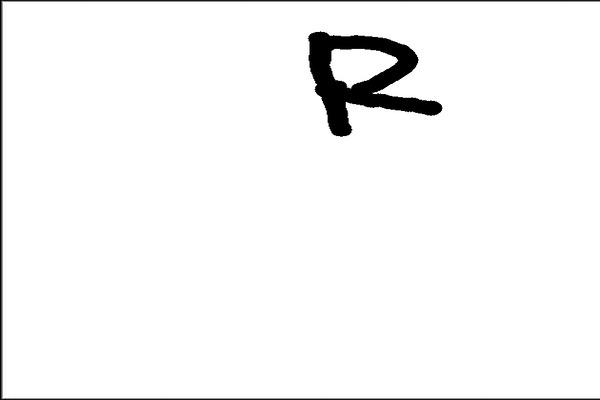R: (295, 18, 452, 147)
